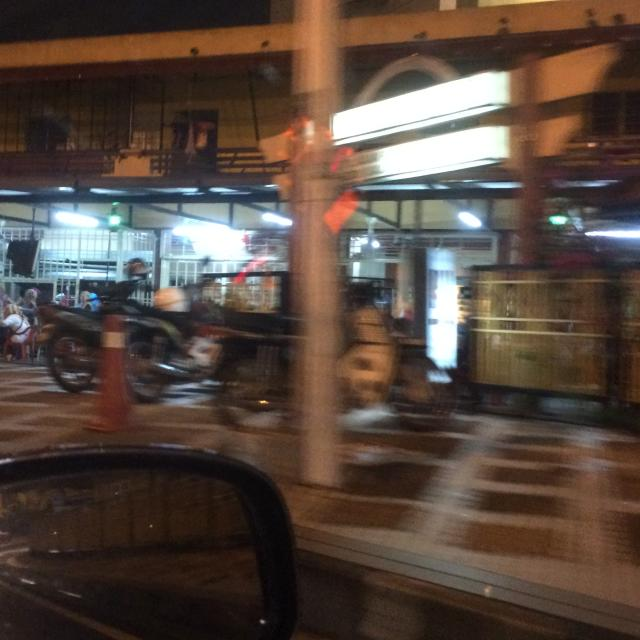Motorbike: (209, 262, 460, 439), (113, 272, 292, 421), (35, 275, 192, 405)
People: (105, 250, 163, 310), (6, 293, 50, 359)
